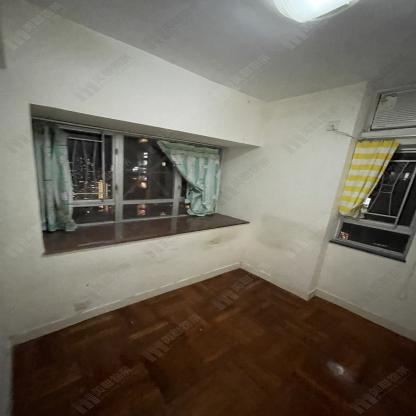Windowsill: (31, 103, 263, 257)
